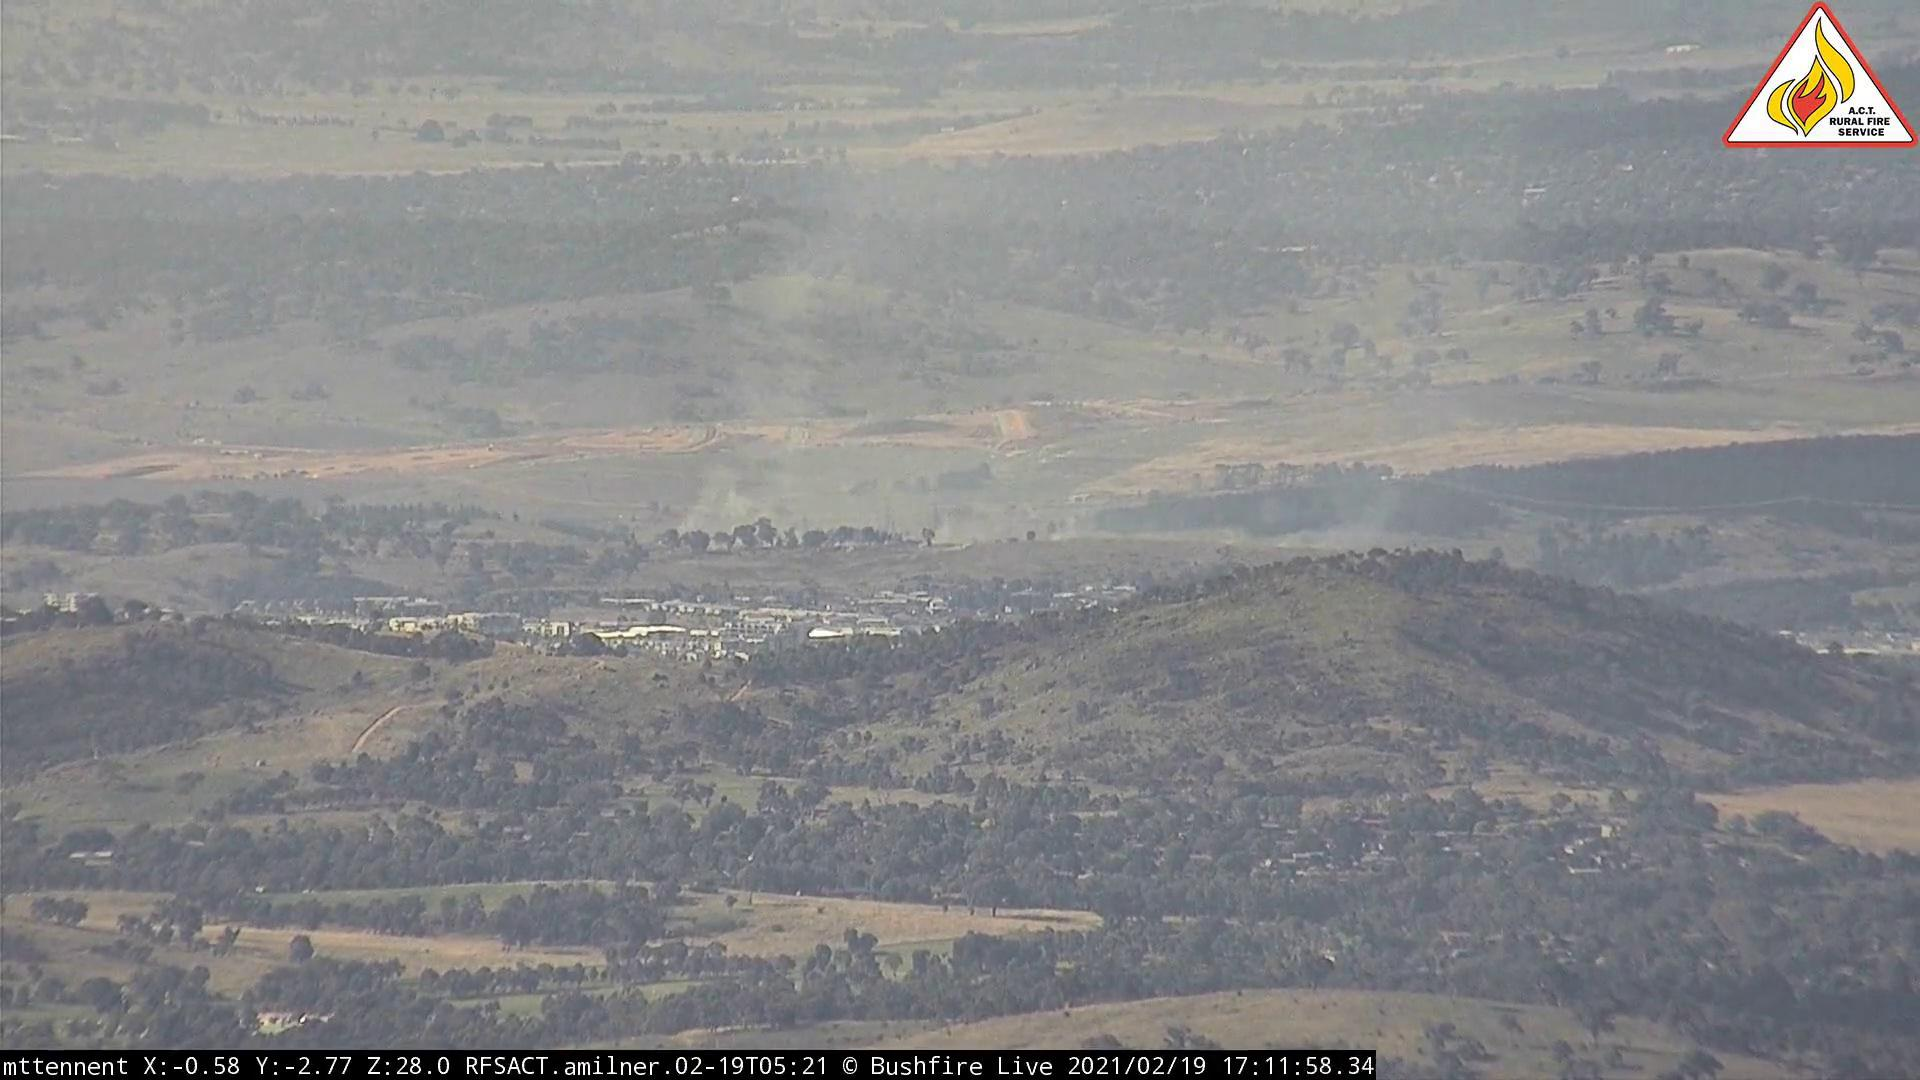instance_salient_object: (632, 368, 969, 564), (1273, 462, 1419, 555)
